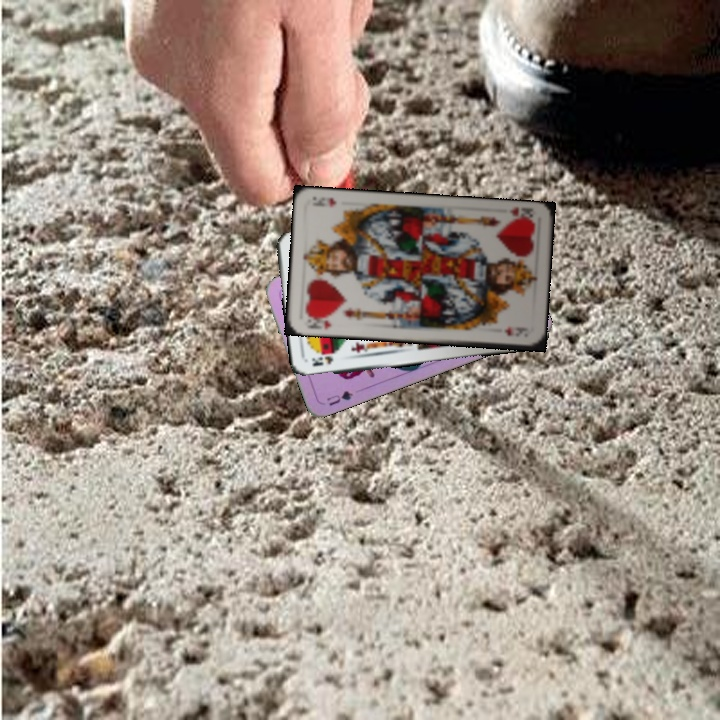GU: (323, 386, 356, 408)
HK: (504, 204, 537, 225), (303, 311, 334, 332)
SK: (308, 352, 336, 369)
